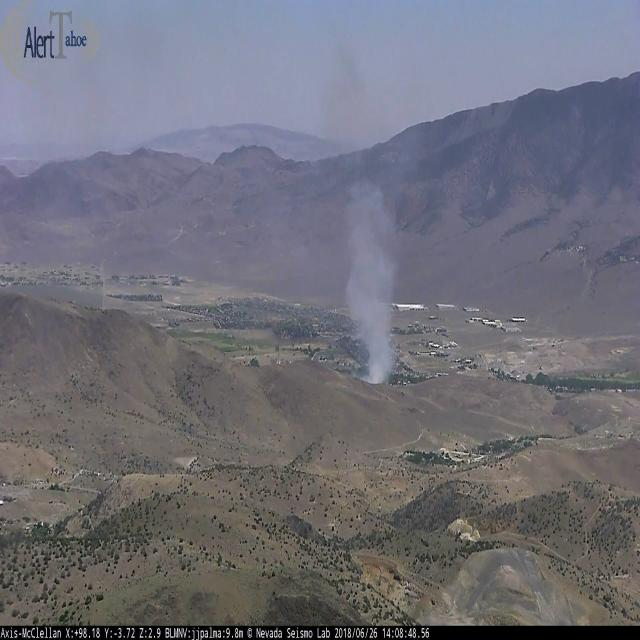smoke: (344, 178, 394, 386)
